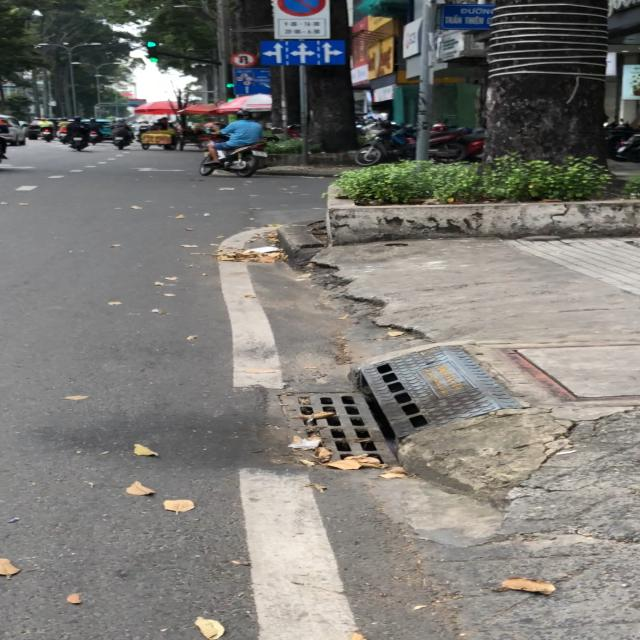Bien bao cam quay dau xe: (228, 50, 258, 69)
